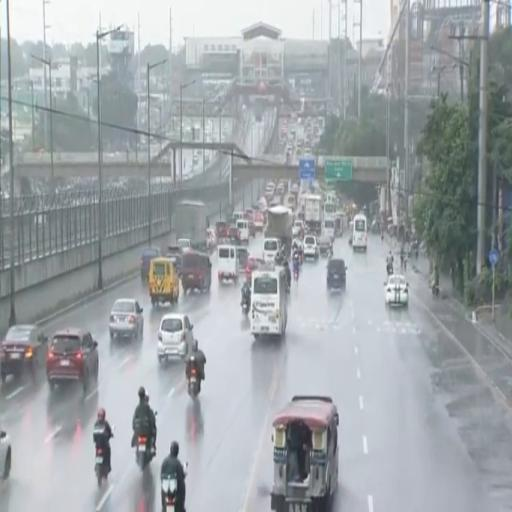bus: (352, 214, 367, 250)
car: (46, 328, 98, 390), (0, 325, 47, 381), (158, 313, 193, 362), (109, 298, 143, 339), (384, 275, 409, 306), (140, 248, 161, 281), (327, 259, 347, 290), (0, 428, 11, 479), (246, 256, 264, 279), (303, 235, 319, 260), (319, 236, 332, 257), (207, 229, 217, 251), (292, 220, 304, 237), (254, 212, 264, 231), (177, 238, 190, 250)
jeepney: (271, 396, 338, 511)
motorcycle: (95, 432, 109, 487), (135, 435, 154, 470), (188, 357, 200, 398), (240, 293, 250, 314), (432, 284, 439, 298), (387, 264, 393, 276), (294, 266, 299, 280), (184, 462, 187, 476)
truck: (174, 201, 206, 251), (264, 205, 293, 251), (302, 194, 323, 235)
